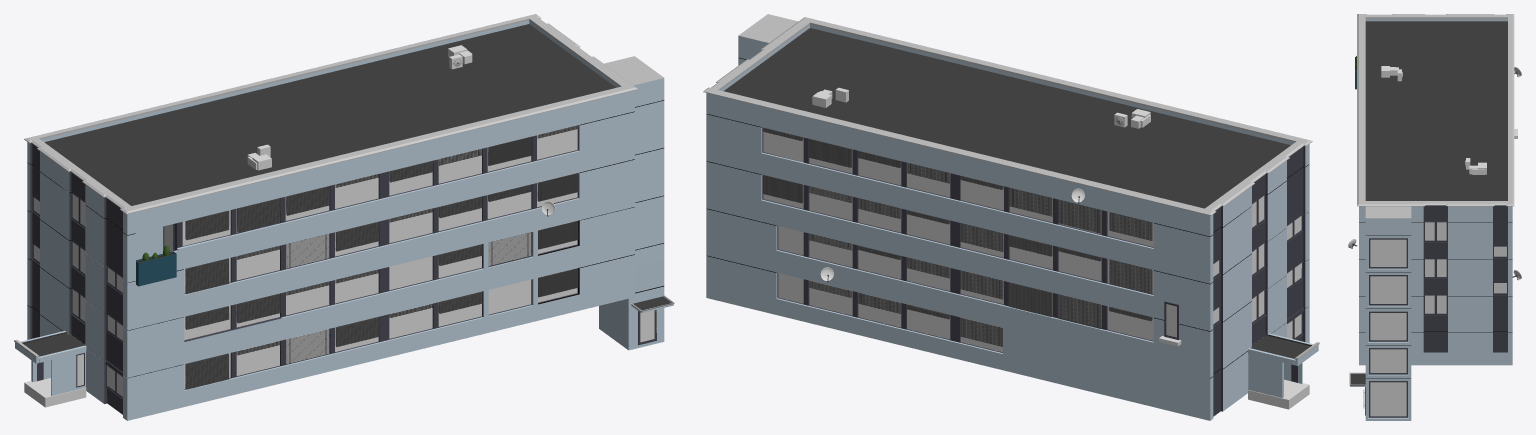
Rendered from Building_01_module.glb.
3 views of the same model, side by side, from view 1: azimuth 30°, elevation 25°; view 2: azimuth 150°, elevation 25°; view 3: azimuth 270°, elevation 25° (orthographic). The views are drawn at different scales.
Visible parts, largest first — view 1: Gebaeude, Rollos; view 2: Gebaeude, Rollos; view 3: Gebaeude.
Boxes of the visible parts, bbox=[...] form: Gebaeude: bbox=[14, 14, 674, 420]; Rollos: bbox=[185, 125, 578, 389]; Gebaeude: bbox=[703, 14, 1319, 420]; Rollos: bbox=[762, 127, 1152, 346]; Gebaeude: bbox=[1348, 14, 1521, 420].
Size of the model in its own units: 43.02 by 18.8 by 14.22.
